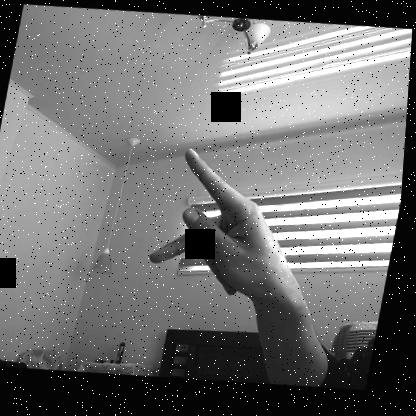K: (143, 140, 305, 315)
